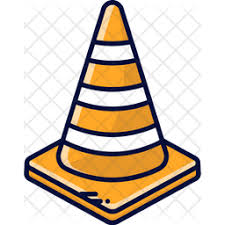cones: (28, 3, 200, 221)
